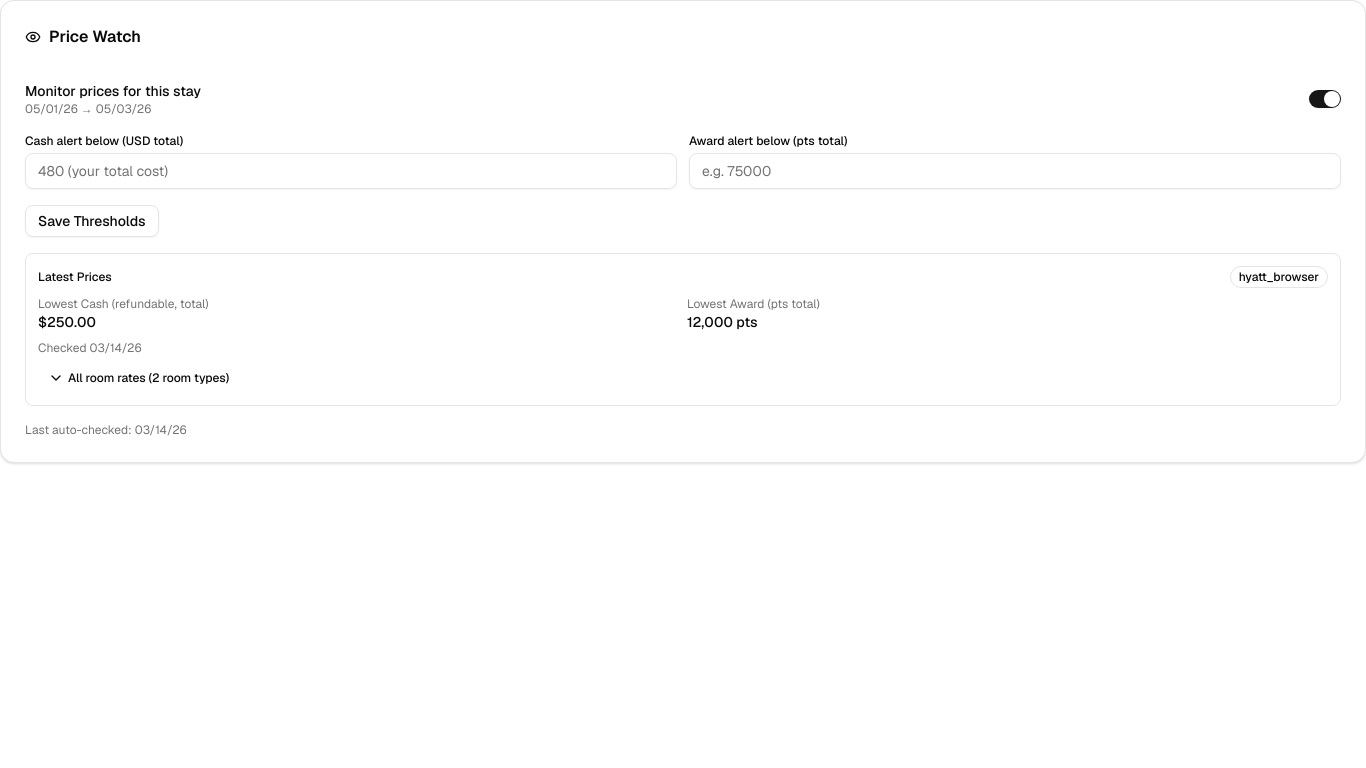
BookingPriceWatch › collapses a room group when clicked again
Step 1. Click the button with test id "toggle-room-rates" → (110, 378), box x1=38 y1=364 x2=1328 y2=392
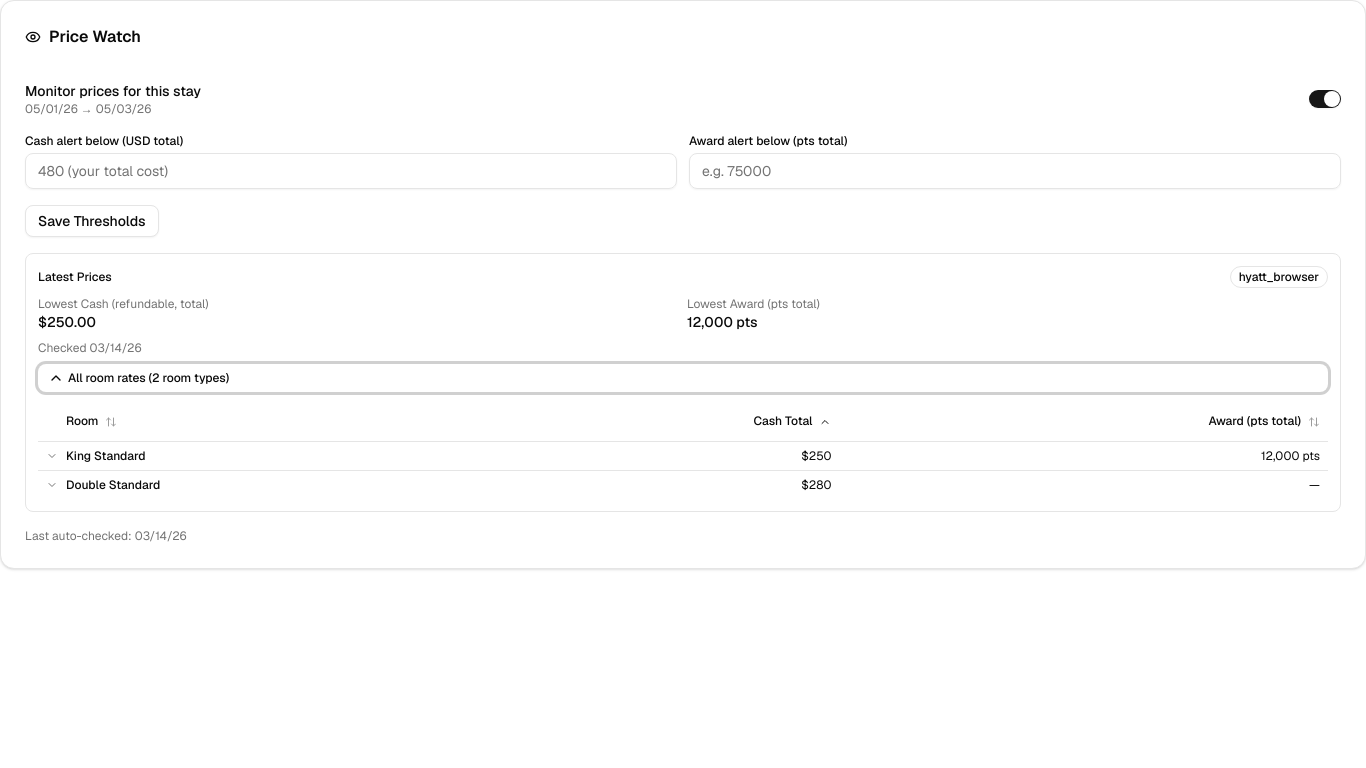
Step 2. Click the row with test id "room-group-row" showing "King Standard $250 12,000 pts" → (683, 456), box x1=38 y1=441 x2=1328 y2=470
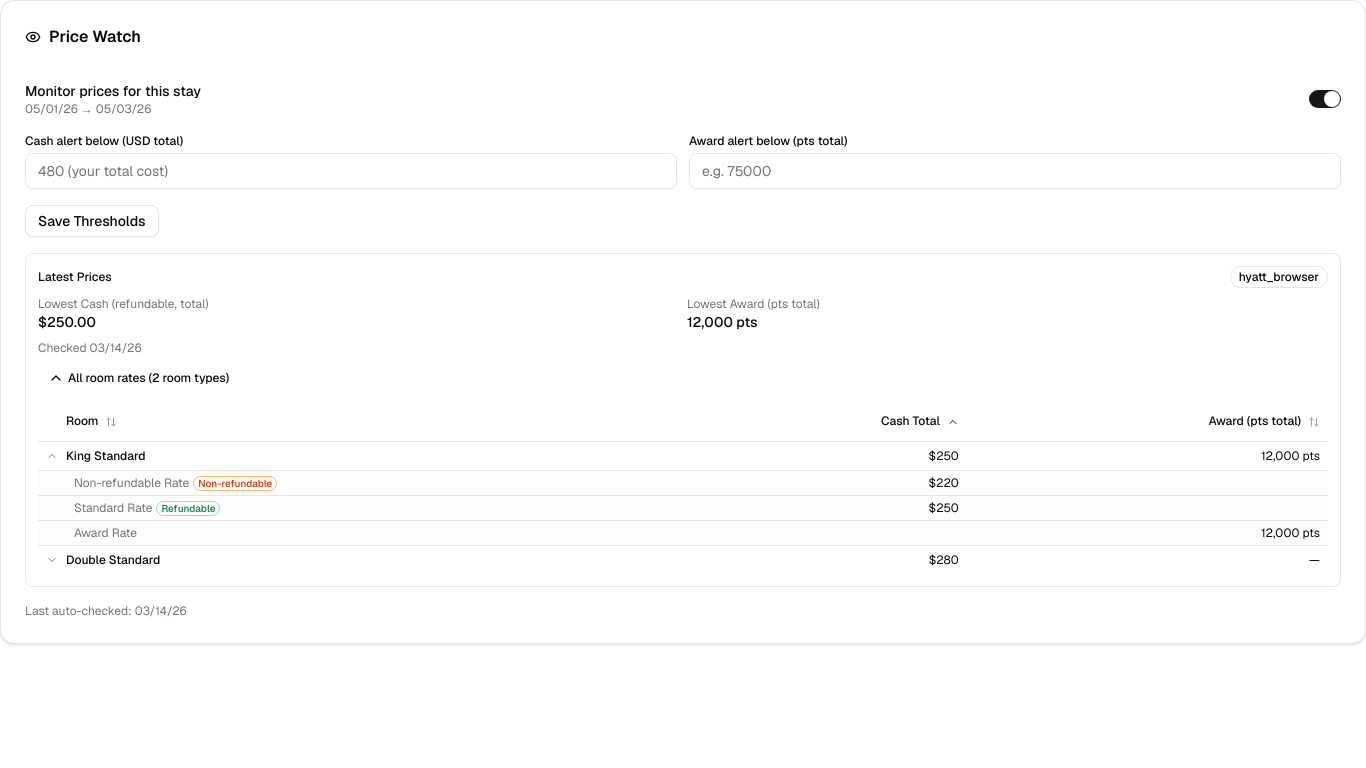
Result: the number of rows with test id "room-rate-row" is 3 at x1=38 y1=470 x2=1328 y2=495; x1=38 y1=495 x2=1328 y2=521; x1=38 y1=521 x2=1328 y2=546
Step 3. Click the row with test id "room-group-row" showing "King Standard $250 12,000 pts" → (683, 456), box x1=38 y1=441 x2=1328 y2=470
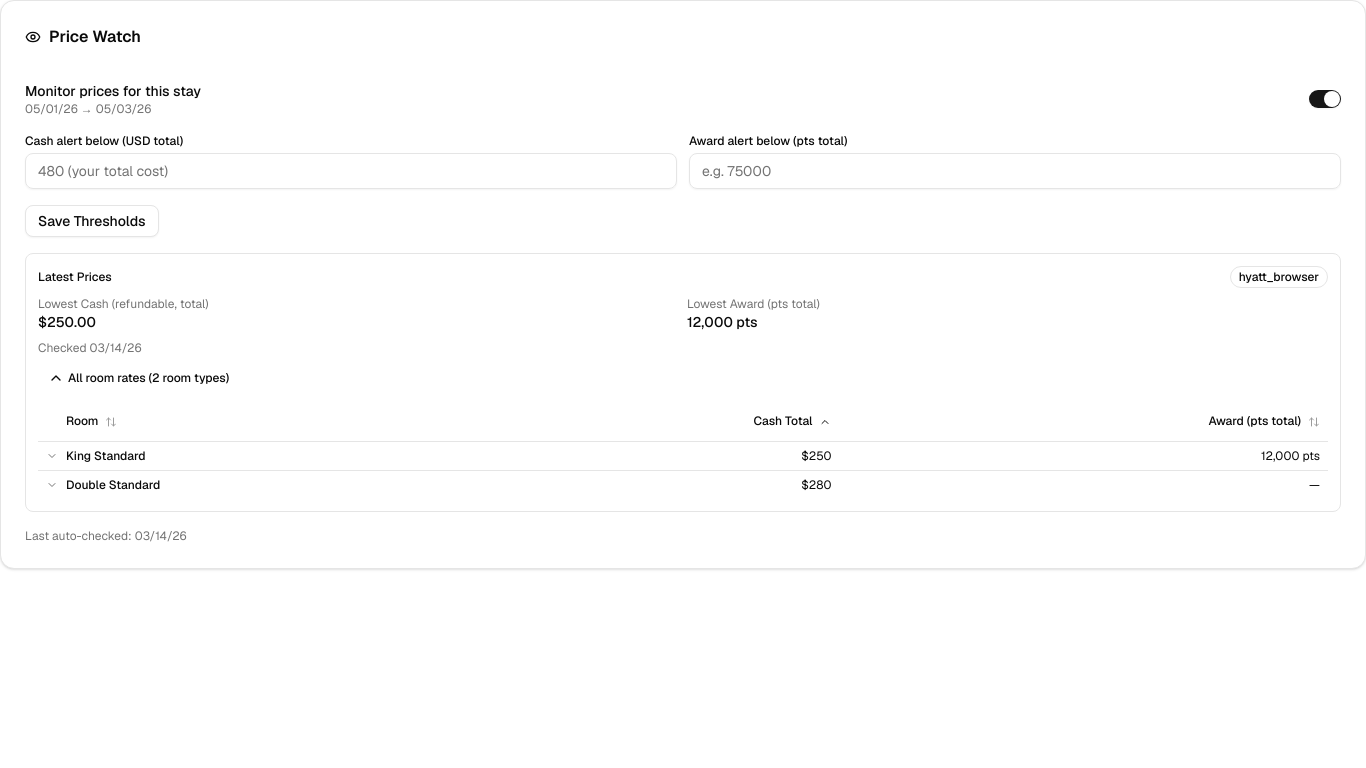
Result: no rows with test id "room-rate-row" are shown
